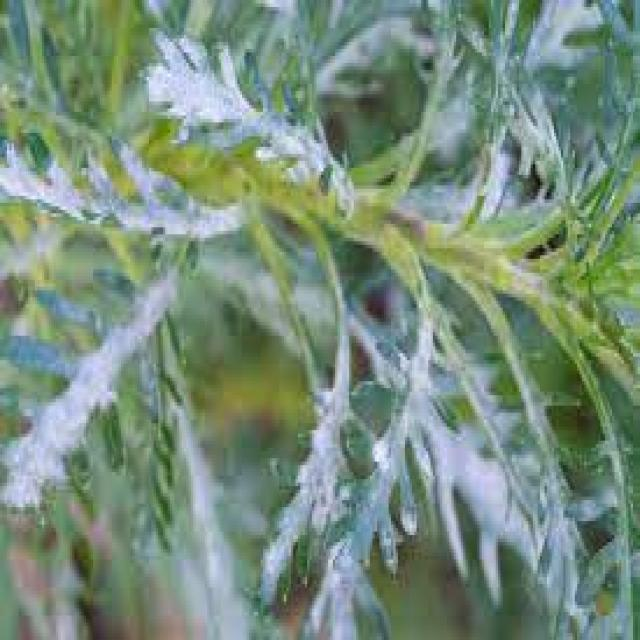powdery-mildew: (283, 254, 513, 640), (0, 147, 232, 525), (141, 27, 346, 189), (445, 0, 594, 214)
